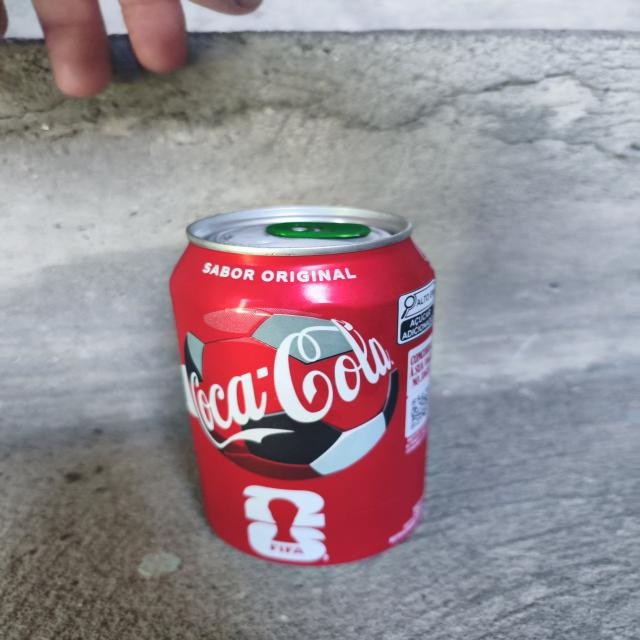Coca Cola: (158, 187, 462, 575)
